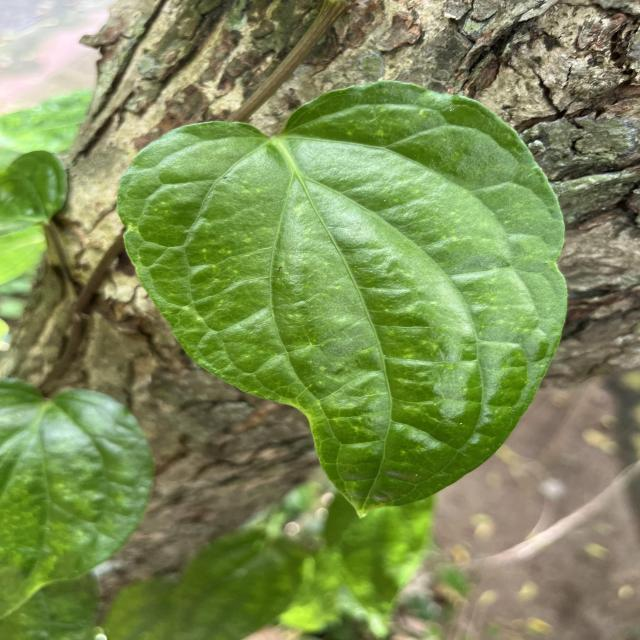Piper betle: (111, 77, 573, 524)
